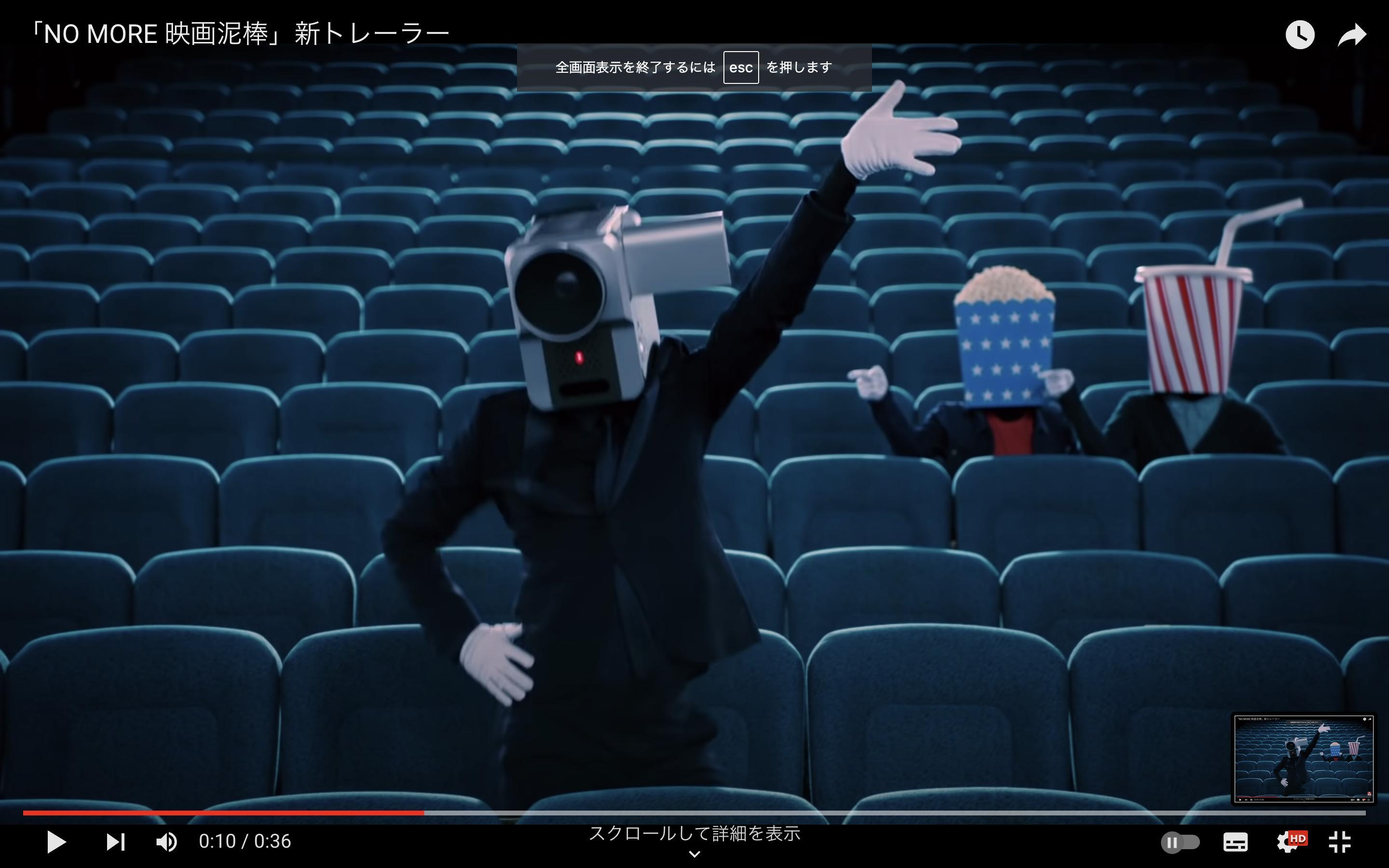no more kid: (476, 180, 770, 437)
